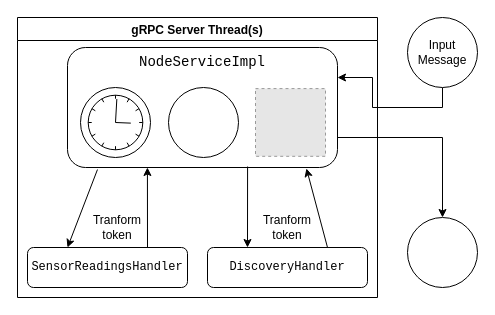
Image size: 495x315. Some labels were removed from this diagram. Grey dashed boxes stand in for pictures. The centre of each missing label's shape, as x and y in pixels:
"Output Message" belongs at point (442, 252).
"Token on hold" belongs at point (203, 122).
